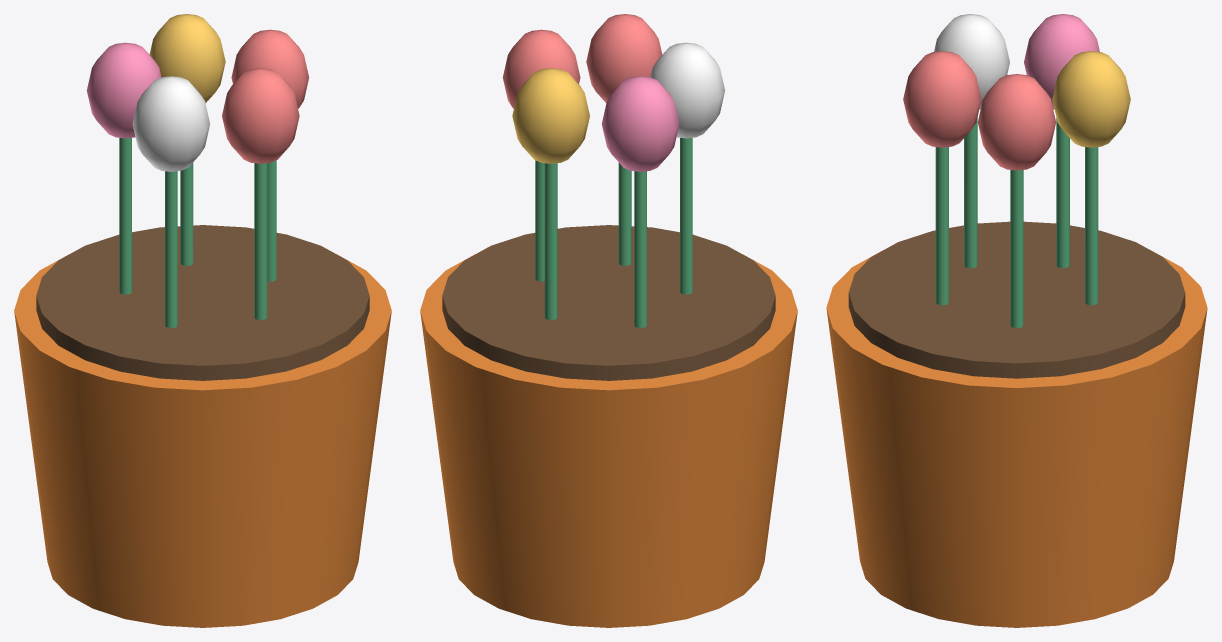
File: street_planter.glb
The picture shows the model from 3 angles, left to right: view 1: azimuth 30°, elevation 25°; view 2: azimuth 150°, elevation 25°; view 3: azimuth 270°, elevation 25°; orthographic projection.
Visible parts, largest first — view 1: street_planter; view 2: street_planter; view 3: street_planter.
Part boxes in pixels (x1,y1,x2,y2): street_planter: [14, 14, 391, 627]; street_planter: [420, 14, 797, 627]; street_planter: [826, 14, 1207, 627].
Bounding box in the file's own units: 0.68 × 1.02 × 0.68.
